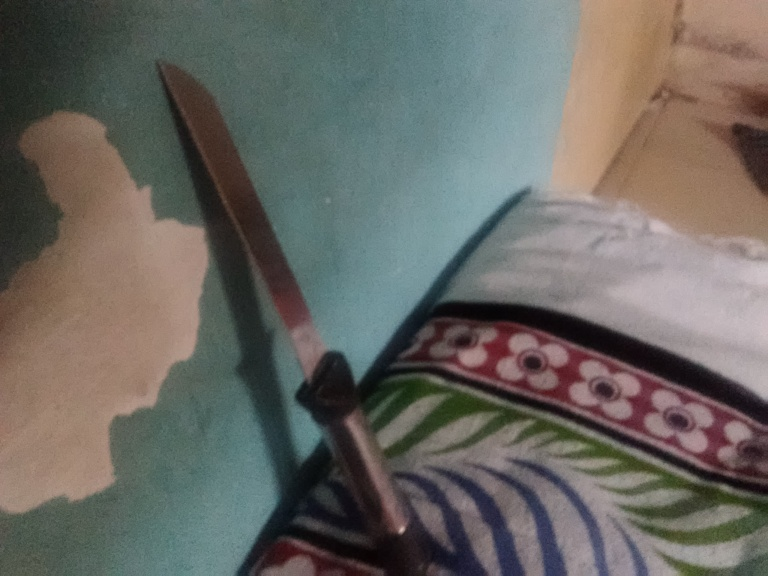knife: (156, 56, 433, 574)
